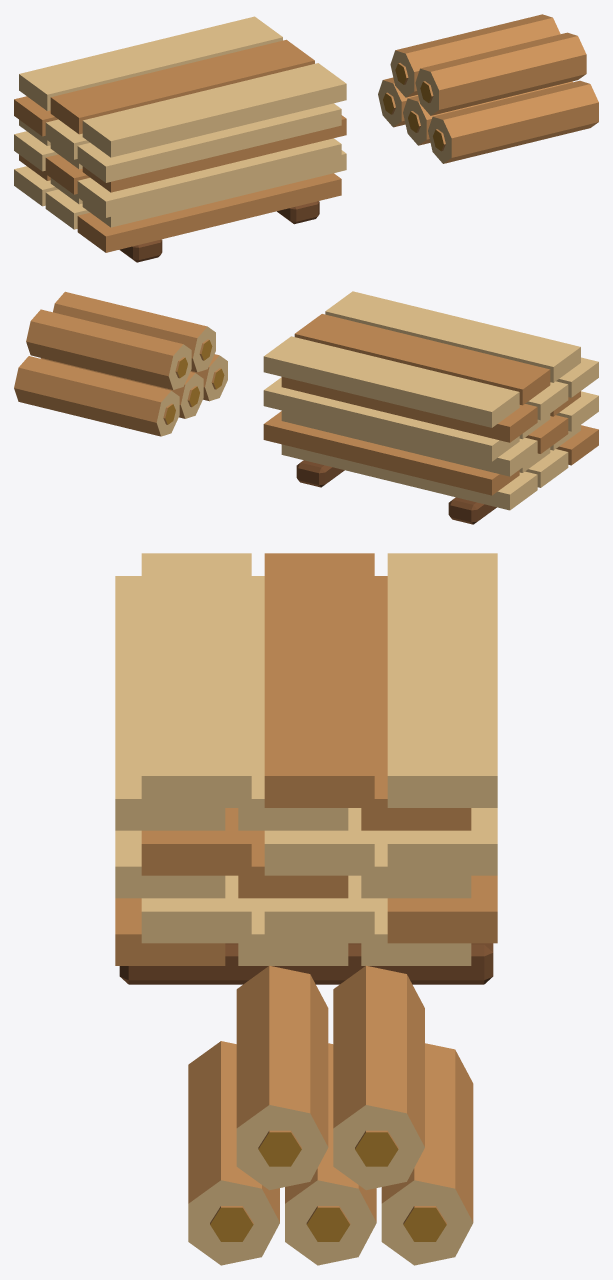
Rendered from sawmill_l1_fill.fbx.
3 views of the same model, one above another, from view 1: azimuth 30°, elevation 25°; view 2: azimuth 150°, elevation 25°; view 3: azimuth 270°, elevation 25° (orthographic). The views are drawn at different scales.
Visible parts, largest first — view 1: Fill_planks_3, Fill_planks_1, Fill_logs_2, Fill_planks_2, Fill_logs_1; view 2: Fill_planks_3, Fill_planks_1, Fill_logs_2, Fill_planks_2, Fill_logs_1; view 3: Fill_planks_3, Fill_logs_2, Fill_logs_1, Fill_planks_1, Fill_planks_2.
Boxes of the visible parts, x1,y1,x2,y2 form: Fill_planks_3: (14, 16, 346, 182); Fill_planks_1: (14, 150, 346, 262); Fill_logs_2: (390, 14, 586, 115); Fill_planks_2: (14, 115, 346, 217); Fill_logs_1: (378, 77, 598, 163); Fill_planks_3: (263, 291, 598, 442); Fill_planks_1: (263, 411, 598, 524); Fill_logs_2: (26, 291, 215, 389); Fill_planks_2: (263, 377, 598, 476); Fill_logs_1: (14, 354, 227, 436); Fill_planks_3: (115, 553, 497, 830); Fill_logs_2: (236, 965, 424, 1190); Fill_logs_1: (188, 1041, 473, 1265); Fill_planks_1: (115, 875, 497, 984); Fill_planks_2: (115, 808, 497, 898).
Size of the model in its own units: 0.6276 by 0.1452 by 0.2088.
